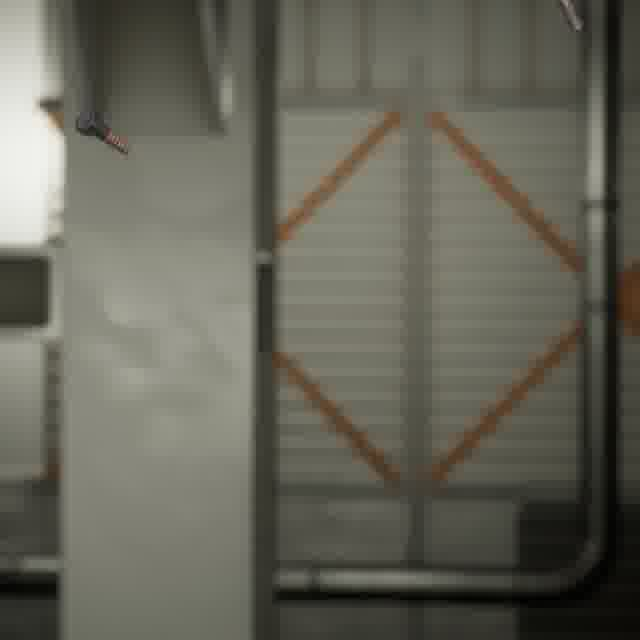bolt: (71, 104, 136, 159), (552, 0, 588, 37)
